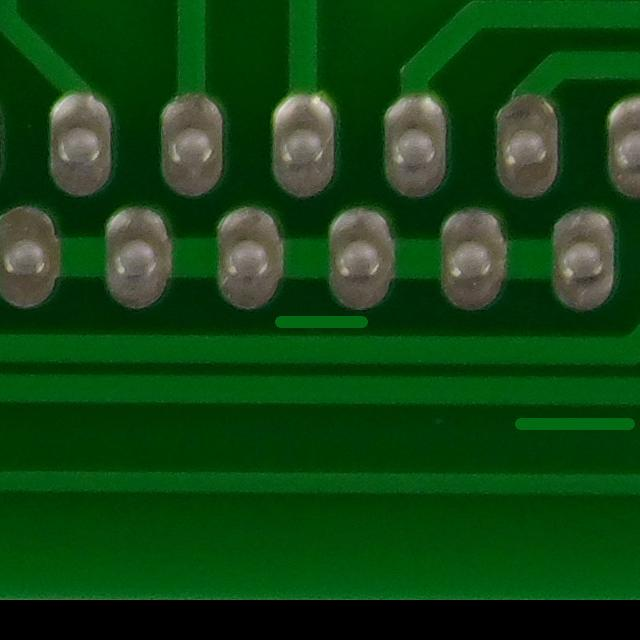spurious_copper: (261, 291, 379, 349)
